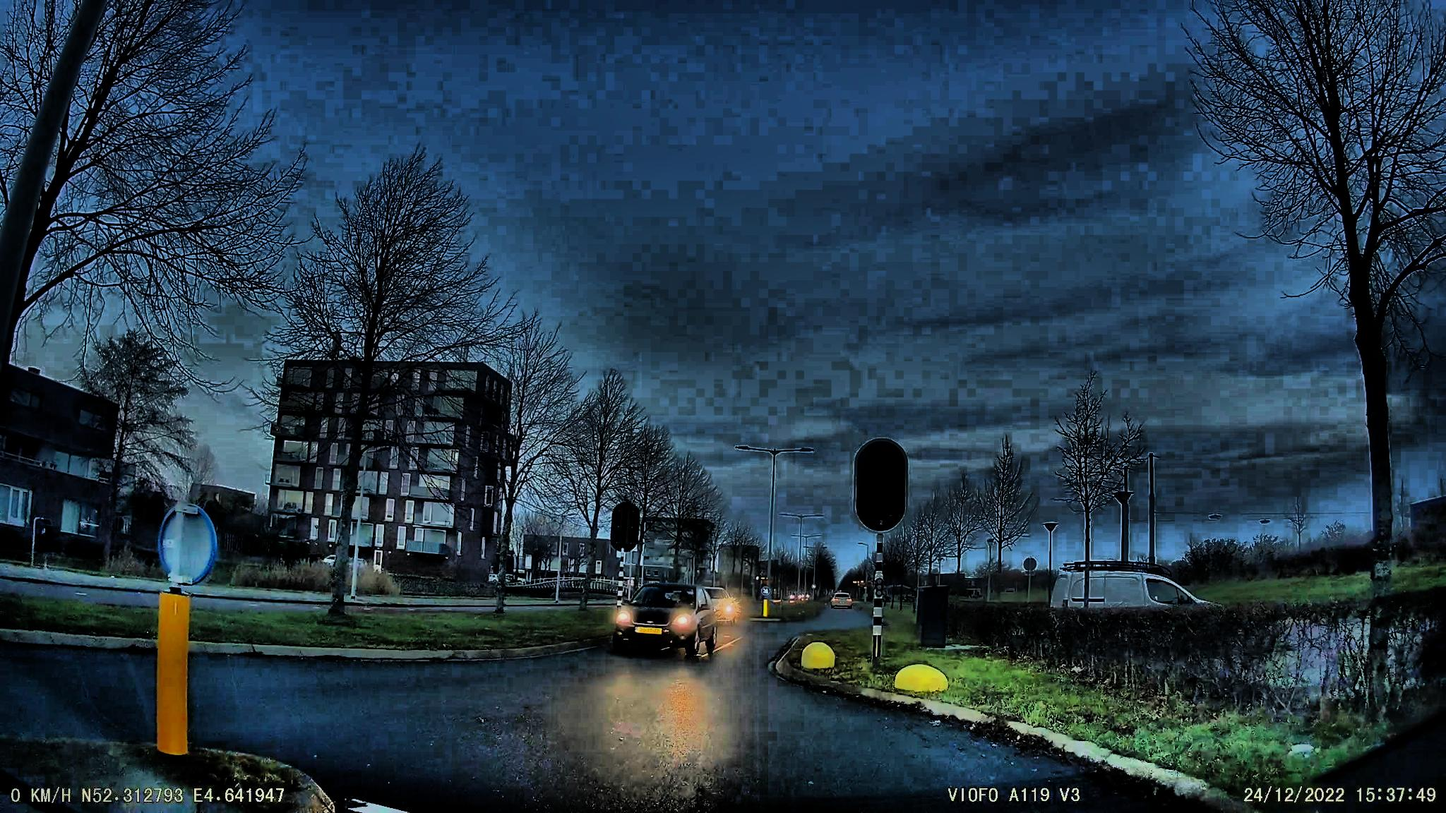Roads: (0, 620, 1266, 813)
